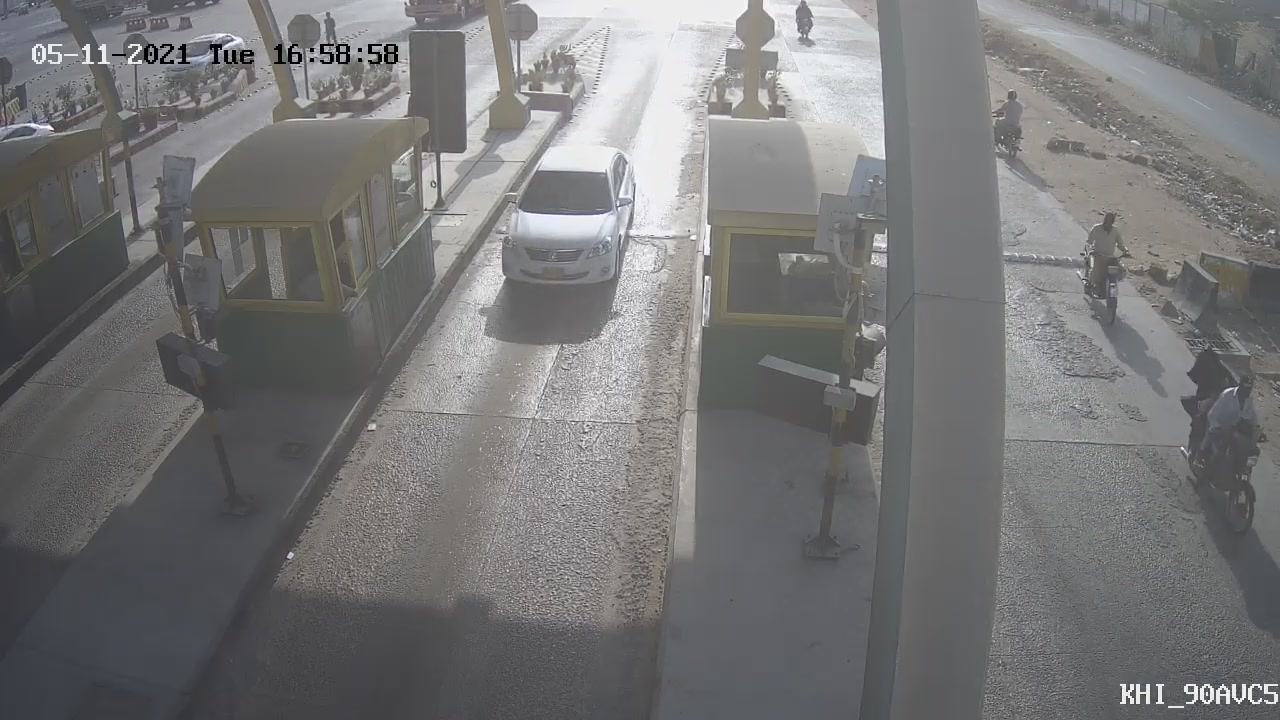F1: (470, 120, 655, 308)
